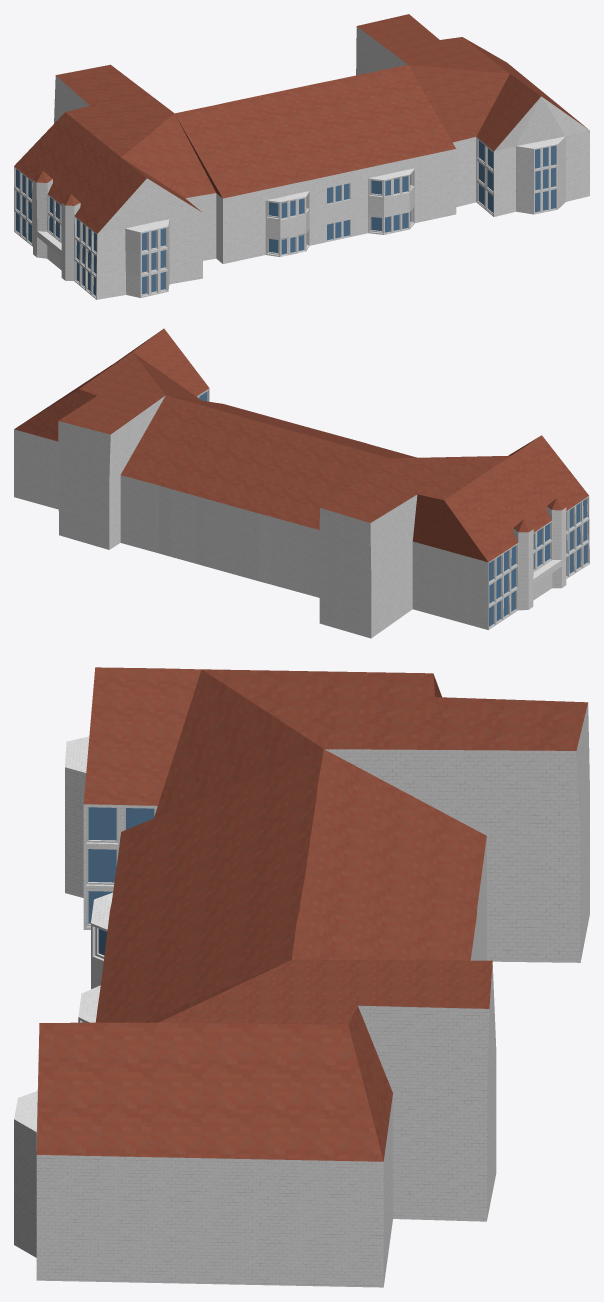
File: HartmanTexturedV1.gltf
3 views of the same model, one above another, from view 1: azimuth 30°, elevation 25°; view 2: azimuth 150°, elevation 25°; view 3: azimuth 270°, elevation 25° (orthographic). The views are drawn at different scales.
Visible parts, largest first — view 1: HartmannCenter_0; view 2: HartmannCenter_0; view 3: HartmannCenter_0.
Part boxes in pixels (x1,y1,x2,y2): HartmannCenter_0: (14,14,589,299); HartmannCenter_0: (14,328,589,638); HartmannCenter_0: (14,667,589,1287).
Bounding box in the file's own units: 57.61 × 12.56 × 30.71.
4 materials, 3 textured.
